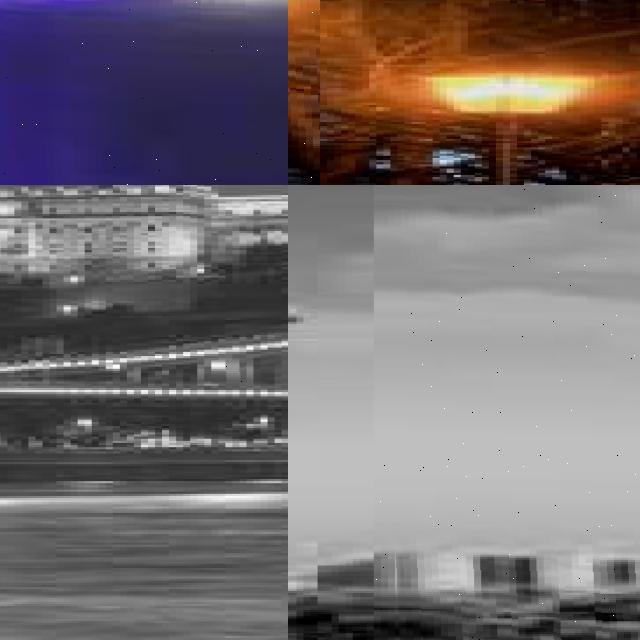street light: (374, 185, 640, 640), (0, 0, 288, 185), (418, 58, 601, 185), (217, 360, 244, 384), (77, 420, 91, 450), (261, 417, 271, 443)
